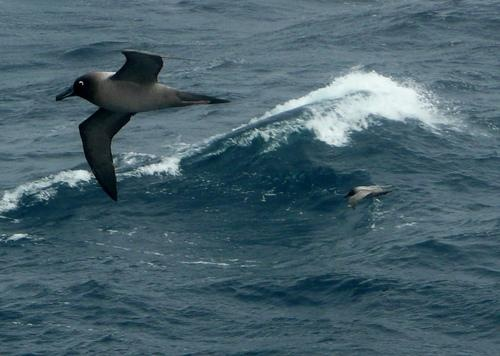bird: (52, 47, 229, 204)
